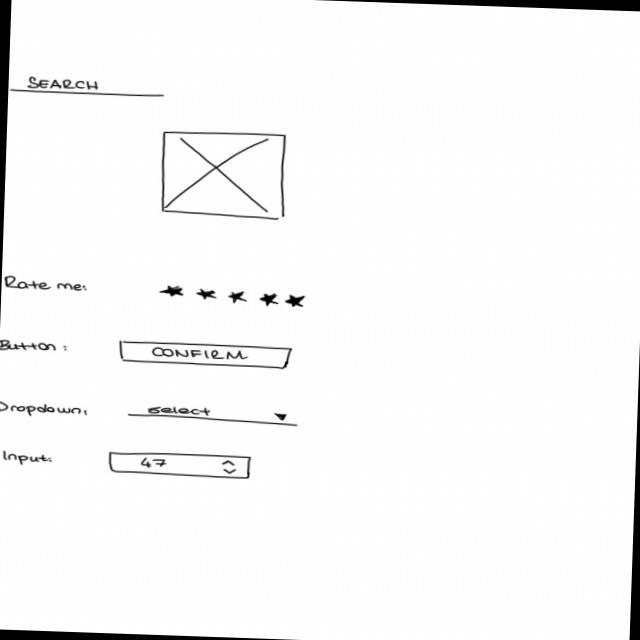button: (117, 340, 295, 371)
image: (158, 129, 291, 223)
input: (9, 73, 168, 100)
label: (1, 397, 91, 421), (2, 275, 91, 296), (1, 337, 71, 355), (1, 449, 56, 467)
number-input: (106, 450, 257, 481)
select: (127, 402, 301, 429)
